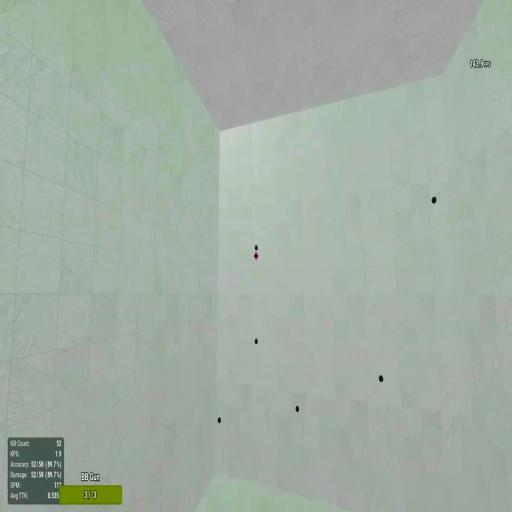Target: (378, 375, 384, 382), (431, 196, 436, 204), (254, 252, 258, 260), (254, 244, 258, 251), (296, 406, 300, 412), (254, 338, 258, 344), (218, 417, 221, 424)
